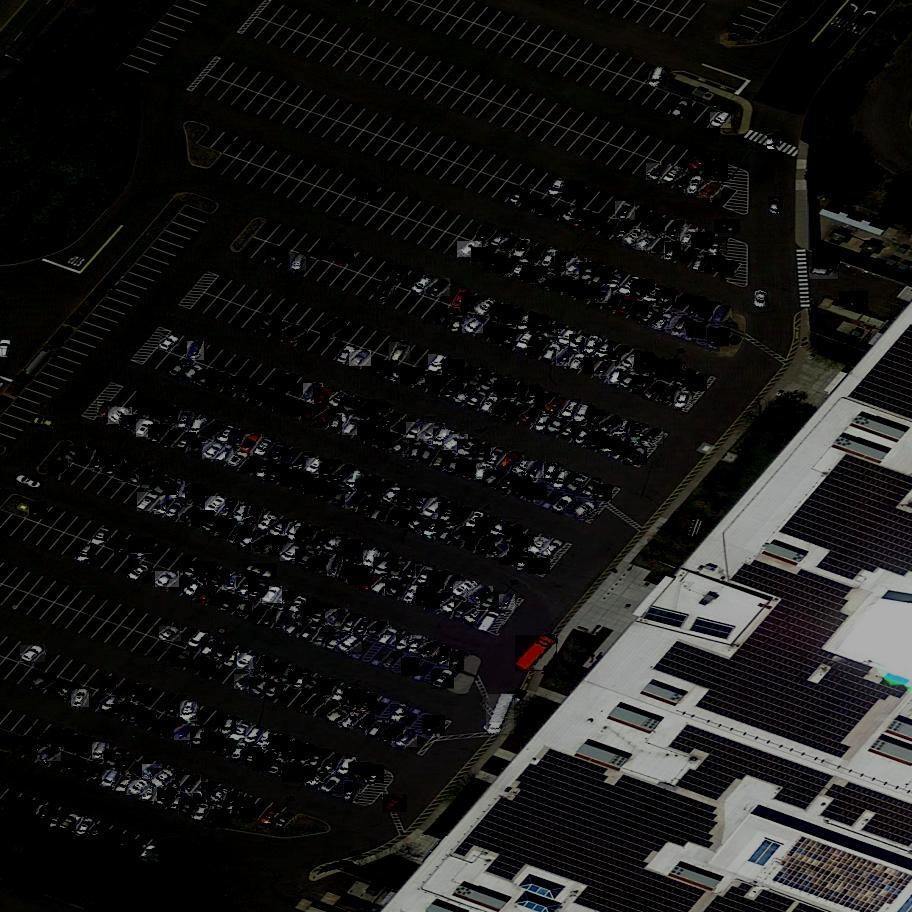large-vehicle: (516, 632, 558, 675), (487, 690, 515, 738)
small-vehicle: (478, 608, 504, 637), (840, 290, 869, 313), (336, 536, 362, 561), (312, 407, 340, 430), (101, 452, 124, 480), (237, 530, 263, 554), (419, 422, 446, 445), (292, 450, 316, 475), (325, 630, 349, 655), (323, 532, 348, 556), (59, 810, 83, 835), (165, 693, 189, 718), (623, 444, 648, 468), (187, 628, 210, 654), (152, 475, 178, 498), (812, 251, 838, 274), (432, 667, 455, 693), (425, 276, 451, 299), (294, 525, 321, 547), (244, 562, 277, 580), (295, 547, 319, 571), (137, 491, 161, 515), (384, 792, 408, 816), (440, 378, 464, 402), (565, 471, 589, 495), (465, 389, 489, 413), (386, 578, 411, 601), (21, 644, 46, 667), (168, 770, 193, 793), (422, 713, 445, 738), (219, 495, 241, 521), (337, 634, 363, 656), (321, 317, 347, 339), (151, 768, 177, 790), (245, 504, 266, 531), (226, 448, 249, 472), (302, 693, 326, 716), (281, 542, 305, 565), (134, 536, 157, 560), (170, 647, 194, 670), (137, 843, 160, 867), (180, 774, 203, 798), (125, 682, 149, 705), (201, 731, 225, 754), (619, 369, 642, 393), (631, 277, 655, 300), (500, 546, 524, 569), (570, 208, 593, 232), (423, 497, 447, 520), (400, 365, 425, 387), (168, 359, 193, 381), (254, 729, 279, 751), (392, 728, 417, 750), (646, 161, 671, 183), (623, 228, 648, 250), (489, 227, 511, 252), (451, 386, 476, 408), (483, 468, 508, 490), (342, 412, 363, 438), (204, 808, 230, 829), (256, 314, 282, 335), (163, 715, 184, 741), (579, 259, 600, 285), (497, 451, 523, 472), (514, 236, 534, 263), (357, 474, 380, 497), (381, 649, 404, 672), (386, 363, 409, 386), (411, 275, 434, 298), (665, 219, 688, 242), (436, 306, 459, 329), (332, 463, 356, 485), (242, 432, 264, 456), (274, 372, 298, 394), (366, 426, 390, 448), (250, 677, 274, 699), (372, 575, 396, 597), (154, 494, 176, 518), (149, 399, 171, 423), (148, 422, 170, 446), (128, 465, 152, 487), (356, 180, 378, 204), (542, 537, 566, 559), (643, 381, 667, 403), (686, 371, 708, 395), (474, 298, 498, 320), (509, 183, 531, 207), (526, 481, 548, 505), (561, 398, 583, 422), (320, 457, 341, 482), (315, 385, 336, 410), (228, 523, 249, 548), (313, 602, 334, 627), (312, 624, 333, 649), (268, 518, 293, 539), (292, 667, 313, 692), (110, 700, 135, 721), (380, 722, 405, 743), (688, 153, 713, 174), (476, 221, 497, 246), (574, 501, 599, 522), (218, 516, 238, 542), (238, 375, 258, 401), (349, 563, 369, 589), (390, 339, 410, 365), (425, 592, 451, 612), (614, 217, 634, 243), (511, 474, 531, 500), (438, 500, 458, 526), (494, 257, 521, 276), (345, 490, 367, 513), (397, 488, 420, 510), (223, 374, 246, 396), (358, 397, 381, 419), (380, 626, 402, 649), (285, 618, 308, 640), (287, 593, 309, 616), (249, 580, 271, 603), (128, 562, 151, 584), (114, 537, 137, 559), (202, 440, 225, 462), (267, 244, 290, 266), (52, 728, 75, 750), (64, 733, 87, 755), (116, 753, 138, 776), (321, 774, 344, 796), (232, 796, 255, 818), (229, 720, 252, 742), (428, 570, 451, 592), (708, 327, 730, 350), (706, 161, 729, 183), (587, 211, 609, 234), (481, 373, 503, 396), (552, 494, 575, 516), (475, 515, 497, 538), (545, 415, 568, 437), (318, 480, 339, 504), (370, 500, 391, 524), (254, 437, 275, 461), (342, 611, 363, 635), (373, 359, 397, 380), (57, 681, 81, 702), (194, 780, 218, 801), (336, 343, 357, 367), (76, 737, 100, 758), (252, 753, 276, 774), (348, 761, 372, 782), (671, 97, 692, 121), (368, 717, 389, 741), (640, 306, 664, 327), (535, 270, 559, 291), (423, 518, 444, 542), (492, 399, 516, 420), (304, 381, 324, 406), (235, 673, 260, 693), (263, 583, 283, 608), (402, 582, 422, 607), (210, 644, 235, 664), (108, 406, 133, 426), (200, 420, 225, 440), (180, 797, 205, 817), (12, 734, 32, 759), (75, 761, 100, 781), (116, 772, 136, 797), (282, 760, 302, 785), (337, 754, 357, 779), (223, 789, 243, 814), (468, 585, 493, 605), (341, 688, 366, 708), (671, 313, 691, 338), (566, 179, 586, 204), (513, 257, 533, 282), (599, 414, 624, 434), (61, 444, 87, 463), (372, 400, 390, 427), (710, 111, 732, 133), (608, 344, 630, 366), (633, 375, 655, 397), (662, 165, 684, 187), (618, 275, 640, 297), (528, 535, 550, 557), (594, 359, 616, 381), (560, 204, 582, 226), (592, 265, 614, 287), (550, 275, 572, 297), (468, 368, 490, 390), (329, 391, 352, 412), (340, 395, 363, 416), (326, 608, 349, 629), (222, 648, 243, 671), (302, 675, 325, 696), (194, 486, 215, 509), (161, 428, 182, 451), (208, 785, 231, 806), (127, 778, 150, 799), (306, 769, 329, 790), (354, 713, 377, 734), (641, 427, 664, 448), (644, 284, 665, 307), (490, 303, 513, 324), (483, 251, 504, 274), (511, 457, 534, 478), (486, 445, 507, 468), (332, 485, 352, 509), (255, 514, 279, 534), (218, 422, 238, 446), (389, 557, 409, 581), (155, 570, 179, 590), (182, 364, 206, 384), (161, 406, 185, 426), (140, 470, 160, 494), (465, 607, 489, 627), (418, 642, 442, 662), (340, 711, 364, 731), (616, 199, 636, 223), (504, 306, 524, 330), (543, 342, 563, 366), (564, 279, 588, 299), (327, 706, 351, 726), (357, 691, 377, 715), (458, 240, 482, 260), (527, 459, 547, 483), (408, 514, 432, 534), (504, 523, 524, 547), (598, 435, 622, 455), (445, 433, 469, 453), (329, 410, 348, 435), (252, 535, 277, 554), (313, 529, 332, 554), (23, 798, 42, 823), (110, 834, 135, 853), (316, 678, 341, 697), (417, 563, 436, 588), (636, 351, 655, 376), (577, 282, 602, 301), (524, 266, 549, 285), (433, 448, 452, 473), (31, 672, 57, 690), (281, 447, 302, 469), (305, 476, 327, 497), (358, 496, 380, 517), (382, 485, 404, 506), (415, 370, 436, 392), (299, 621, 321, 642), (355, 617, 376, 639), (205, 494, 226, 516), (101, 827, 123, 848), (349, 348, 371, 369), (100, 694, 121, 716), (294, 765, 316, 786), (243, 725, 264, 747), (480, 591, 501, 613), (699, 182, 721, 203), (502, 328, 524, 349), (556, 348, 578, 369), (443, 358, 465, 379), (465, 509, 486, 531), (560, 420, 582, 441), (586, 430, 607, 452), (458, 438, 480, 459), (268, 463, 288, 486), (385, 504, 405, 527), (374, 555, 394, 578), (179, 482, 202, 502), (179, 504, 202, 524), (192, 509, 215, 529), (91, 524, 111, 547), (183, 579, 206, 599), (97, 399, 117, 422), (136, 417, 156, 440), (176, 430, 196, 453), (102, 768, 122, 791), (441, 597, 464, 617), (454, 580, 477, 600), (674, 170, 697, 190), (461, 295, 484, 315), (480, 395, 500, 418), (254, 458, 273, 482), (277, 608, 296, 632), (275, 589, 294, 613), (76, 542, 95, 566), (297, 743, 316, 767), (194, 802, 213, 826), (609, 364, 628, 388), (390, 701, 409, 725), (433, 427, 452, 451), (198, 582, 216, 607), (71, 686, 89, 711), (542, 246, 560, 271), (15, 474, 43, 490), (302, 402, 323, 423), (222, 573, 243, 594), (270, 735, 291, 756), (321, 752, 342, 773), (259, 807, 280, 828), (651, 237, 672, 258), (429, 374, 450, 395), (498, 471, 519, 492), (490, 520, 511, 541), (407, 420, 427, 442), (236, 575, 256, 597), (220, 593, 240, 615), (166, 499, 186, 521), (48, 459, 70, 479), (48, 808, 68, 830), (335, 246, 355, 268), (104, 748, 124, 770), (713, 304, 733, 326), (528, 339, 550, 359), (566, 257, 588, 277), (158, 333, 180, 353), (399, 508, 418, 531), (233, 502, 252, 525), (262, 390, 285, 409), (357, 418, 376, 441), (380, 412, 403, 431), (378, 432, 401, 451), (261, 607, 280, 630), (264, 679, 283, 702), (285, 520, 304, 543), (404, 560, 423, 583), (201, 636, 220, 659), (389, 263, 408, 286), (38, 746, 61, 765), (91, 762, 110, 785), (282, 739, 301, 762), (528, 557, 551, 576), (637, 234, 660, 253), (692, 231, 715, 250), (708, 235, 727, 258), (452, 287, 471, 310), (429, 353, 448, 376), (477, 535, 496, 558), (519, 407, 542, 426), (347, 469, 365, 493), (363, 547, 381, 571), (159, 625, 183, 643), (188, 340, 206, 364), (138, 395, 156, 419), (76, 815, 94, 839), (283, 324, 307, 342), (139, 707, 157, 731), (245, 745, 263, 769), (649, 65, 667, 89), (516, 551, 534, 575), (650, 218, 674, 236), (542, 324, 566, 342), (472, 246, 496, 264), (556, 249, 574, 273), (574, 425, 592, 449), (91, 448, 108, 473), (375, 279, 392, 304), (128, 703, 145, 728), (181, 699, 198, 724), (191, 723, 208, 748), (715, 218, 740, 235), (585, 333, 602, 358), (306, 456, 326, 477), (286, 400, 307, 420), (348, 545, 368, 566), (183, 559, 203, 580), (168, 793, 189, 813), (155, 789, 176, 809), (655, 311, 675, 332), (621, 351, 642, 371), (675, 369, 696, 389), (594, 483, 614, 504), (545, 396, 566, 416), (249, 384, 268, 406), (274, 395, 293, 417), (392, 437, 414, 456), (368, 620, 390, 639), (311, 554, 333, 573), (29, 500, 48, 522), (197, 369, 216, 391), (121, 413, 143, 432), (126, 837, 145, 859), (454, 601, 473, 623), (488, 541, 510, 560), (595, 340, 614, 362), (581, 476, 600, 498), (506, 404, 528, 423), (420, 443, 439, 465), (283, 467, 301, 490), (372, 481, 395, 499), (402, 656, 420, 679), (269, 756, 287, 779), (310, 747, 328, 770), (367, 763, 385, 786), (680, 225, 698, 248), (475, 461, 493, 484), (410, 633, 427, 657), (200, 560, 217, 584), (231, 740, 248, 764), (674, 388, 691, 412), (665, 240, 682, 264), (491, 323, 508, 347), (413, 490, 430, 514), (460, 458, 477, 482), (498, 376, 515, 400), (728, 25, 755, 40), (238, 652, 258, 672), (203, 515, 223, 535), (532, 314, 548, 339), (209, 569, 230, 588), (274, 812, 295, 831), (687, 321, 706, 342), (569, 333, 590, 352), (452, 526, 473, 545), (242, 455, 260, 477), (217, 443, 235, 465), (360, 572, 378, 594), (218, 736, 236, 758), (641, 210, 659, 232), (603, 294, 625, 312), (462, 317, 484, 335), (517, 333, 535, 355), (571, 351, 589, 373), (583, 355, 601, 377), (550, 178, 568, 200), (451, 506, 473, 524), (296, 470, 313, 493), (99, 674, 116, 697), (291, 251, 308, 274), (93, 740, 110, 763), (445, 573, 462, 596), (689, 294, 706, 317), (9, 796, 32, 813), (499, 237, 522, 254), (575, 403, 592, 426), (588, 407, 605, 430), (327, 555, 343, 579), (417, 585, 433, 609), (688, 174, 704, 198), (451, 311, 467, 335), (535, 392, 559, 408), (701, 300, 721, 319), (396, 632, 414, 653), (143, 764, 164, 782), (615, 419, 633, 440), (558, 327, 576, 348), (280, 665, 297, 687), (37, 803, 54, 825), (613, 440, 630, 462), (179, 408, 195, 431), (436, 644, 452, 667), (692, 251, 708, 274), (536, 197, 552, 220), (30, 737, 45, 761), (65, 754, 80, 778), (439, 523, 457, 543), (175, 724, 196, 741), (268, 660, 284, 682), (170, 478, 186, 500), (650, 357, 666, 379), (630, 422, 646, 444), (708, 253, 724, 275), (619, 295, 635, 317), (518, 312, 534, 334), (510, 383, 526, 405), (809, 268, 838, 280), (339, 560, 354, 583), (345, 780, 360, 803), (633, 299, 648, 322), (525, 384, 540, 407), (214, 371, 231, 391), (303, 596, 317, 620), (254, 654, 270, 675), (90, 823, 106, 844), (499, 592, 515, 613), (669, 357, 683, 381), (607, 270, 623, 291), (513, 534, 534, 550), (554, 470, 570, 491), (232, 428, 247, 450), (274, 535, 289, 557), (201, 657, 216, 679), (663, 384, 678, 406), (661, 286, 676, 308), (536, 412, 551, 434), (448, 454, 463, 476), (222, 714, 236, 737), (451, 649, 465, 672), (142, 784, 158, 804), (753, 289, 769, 309), (237, 596, 252, 617), (190, 417, 205, 438), (333, 684, 348, 705), (596, 285, 611, 306), (271, 441, 285, 463), (192, 437, 206, 459), (769, 196, 784, 216), (545, 462, 559, 483), (467, 532, 481, 553), (410, 439, 424, 460), (477, 442, 491, 463), (32, 417, 56, 428), (723, 260, 735, 278), (767, 132, 777, 147)
